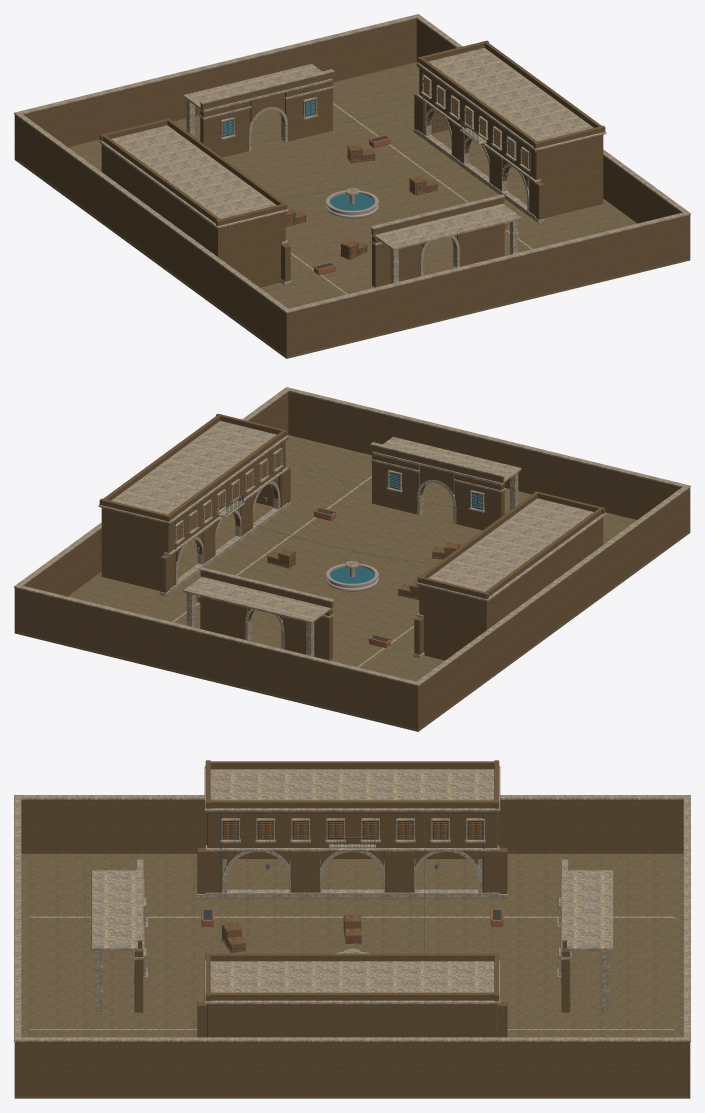
File: desert-courtyard-v1.glb
3 renders of one model, top to bottom at view 1: azimuth 30°, elevation 25°; view 2: azimuth 150°, elevation 25°; view 3: azimuth 270°, elevation 25°, orthographic. The views are drawn at different scales.
Visible parts, largest first — view 1: HD_Static_PBR_Aged_Plaster, continuous_paving, HD_Static_PBR_Sandstone, HD_Static_PBR_Old_Wood, HD_Static_Weathered_Iron, fountain_water; view 2: HD_Static_PBR_Aged_Plaster, continuous_paving, HD_Static_PBR_Sandstone, HD_Static_PBR_Old_Wood, HD_Static_Weathered_Iron, fountain_water; view 3: HD_Static_PBR_Aged_Plaster, continuous_paving, HD_Static_PBR_Sandstone, HD_Static_PBR_Old_Wood, HD_Static_Recess_Shadow, HD_Static_Weathered_Iron.
Boxes of the visible parts, x1,y1,x2,y2 form: HD_Static_PBR_Aged_Plaster: (14, 18, 690, 356); continuous_paving: (14, 62, 690, 358); HD_Static_PBR_Sandstone: (14, 14, 690, 313); HD_Static_PBR_Old_Wood: (285, 78, 527, 259); HD_Static_Weathered_Iron: (210, 71, 529, 259); fountain_water: (330, 193, 374, 210); HD_Static_PBR_Aged_Plaster: (14, 391, 690, 729); continuous_paving: (14, 435, 690, 731); HD_Static_PBR_Sandstone: (14, 387, 690, 686); HD_Static_PBR_Old_Wood: (176, 451, 460, 599); HD_Static_Weathered_Iron: (175, 444, 504, 598); fountain_water: (330, 566, 374, 583); HD_Static_PBR_Aged_Plaster: (14, 760, 690, 1095); continuous_paving: (14, 853, 690, 1098); HD_Static_PBR_Sandstone: (14, 766, 690, 1041); HD_Static_PBR_Old_Wood: (221, 822, 482, 952); HD_Static_Recess_Shadow: (203, 821, 501, 919); HD_Static_Weathered_Iron: (220, 813, 484, 953).
Bounding box in the file's own units: 48.12 × 9.01 × 56.12.
Materials: 9 (4 with a texture image).
